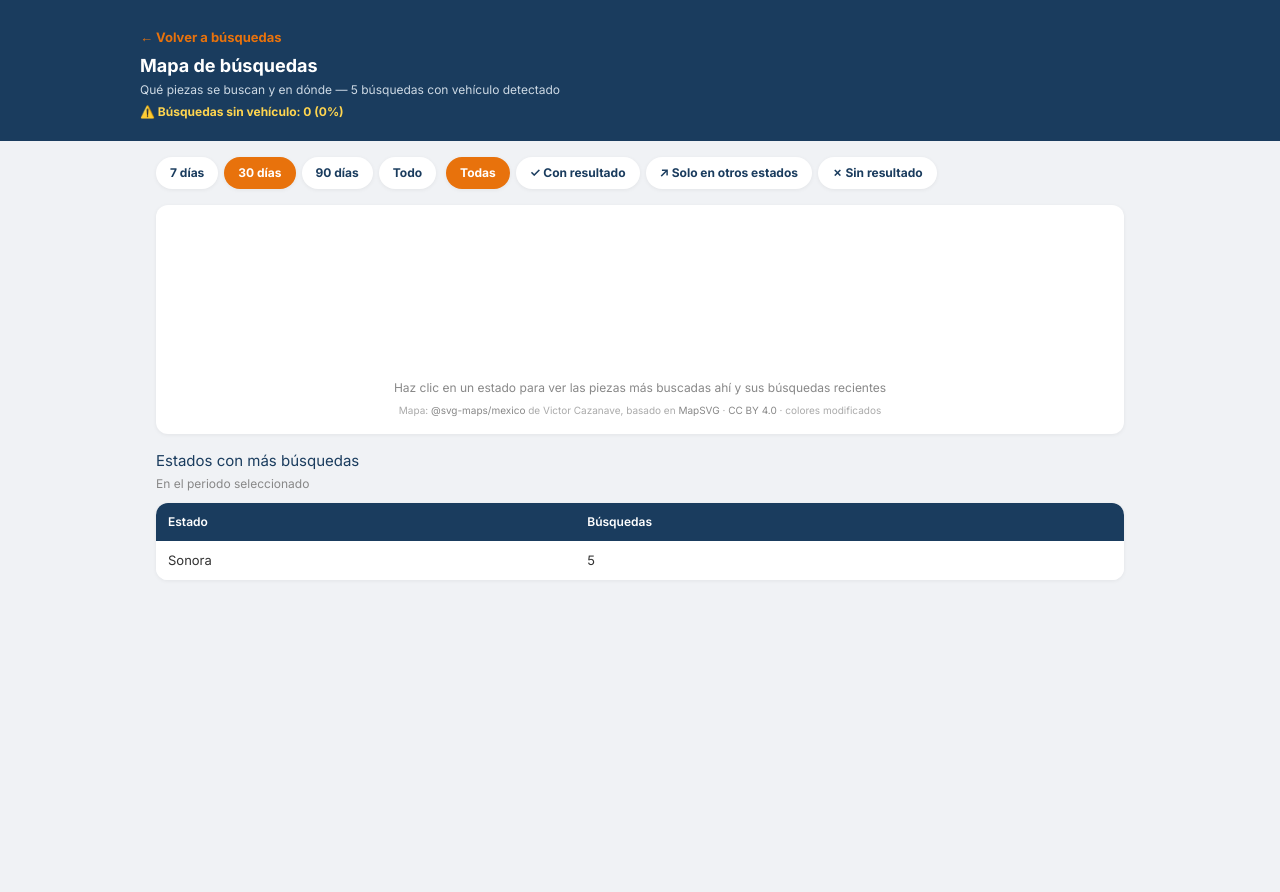
mapa de búsquedas: tres grupos (con resultado, solo en otros estados, sin resultado) › filtro con los tres grupos
This screenshot has width=1280, height=892.
Click the cell "Sonora": (190, 560) [156, 540, 575, 580]
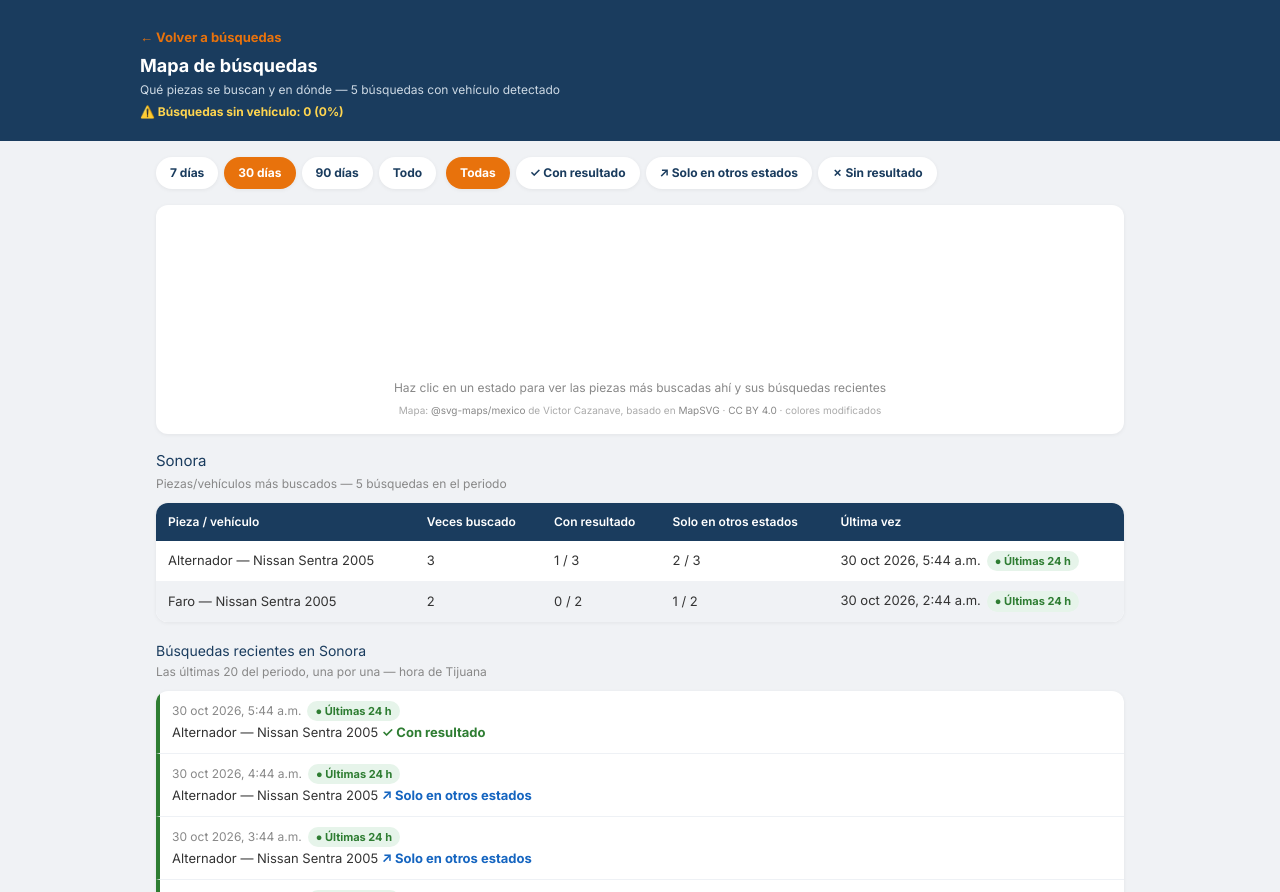
Click the button "↗ Solo en otros estados": (729, 173) [646, 157, 812, 189]
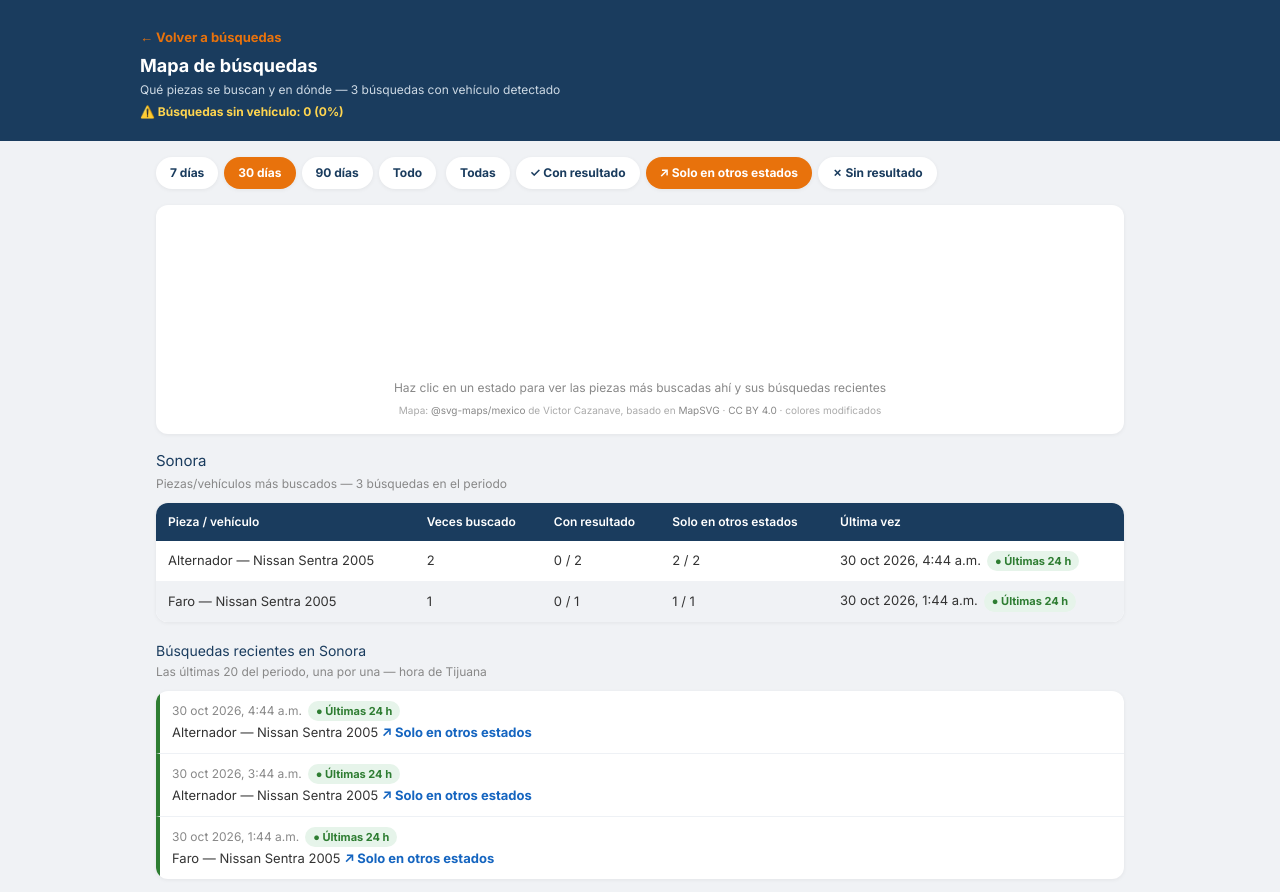
Expected: the number of list items is 3, [156, 690, 1124, 752]; [156, 752, 1124, 816]; [156, 816, 1124, 878]
Click the button "✗ Sin resultado": (877, 173) [818, 157, 937, 189]
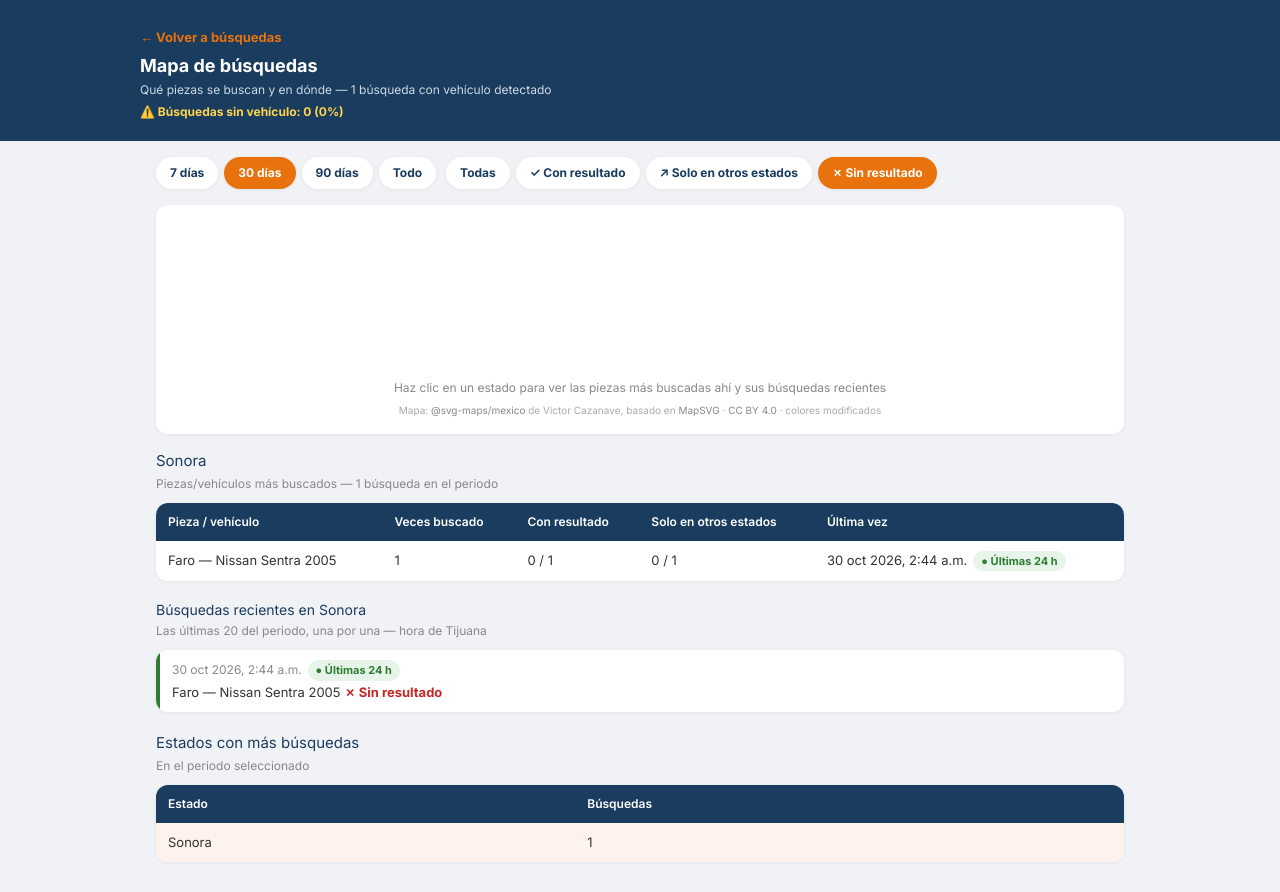
Expected: the number of list items is 1, [156, 650, 1124, 712]
